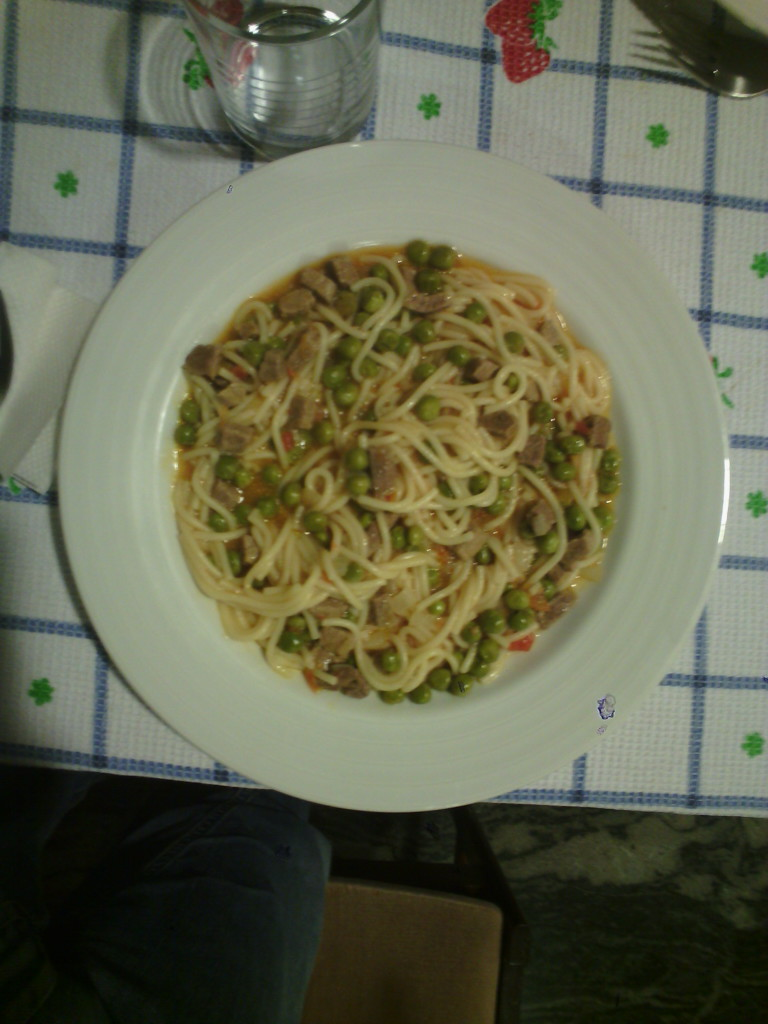81-100: (60, 140, 732, 810)
